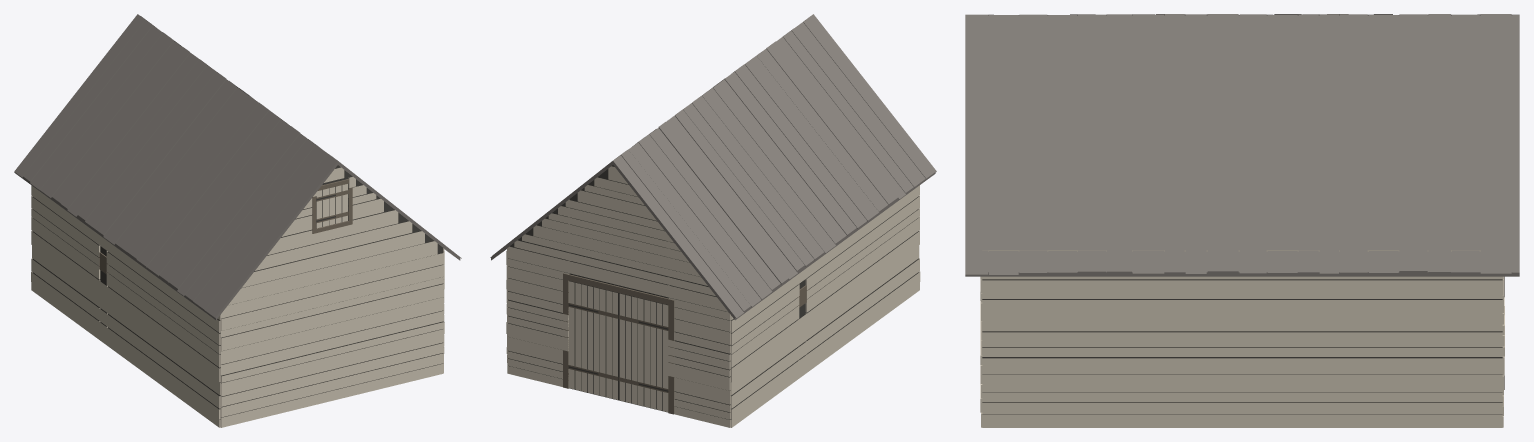
Rendered from recon_1835_blk_washington_clinton_a2_08__inferred_1835.glb.
3 views of the same model, side by side, from view 1: azimuth 30°, elevation 25°; view 2: azimuth 150°, elevation 25°; view 3: azimuth 270°, elevation 25° (orthographic). The views are drawn at different scales.
Parts seen in each view (by area): view 1: recon_1835_blk_washington_clinton_a2_08__inferred_1835; view 2: recon_1835_blk_washington_clinton_a2_08__inferred_1835; view 3: recon_1835_blk_washington_clinton_a2_08__inferred_1835.
Boxes of the visible parts, <box> form: recon_1835_blk_washington_clinton_a2_08__inferred_1835: <box>14,14,461,427</box>; recon_1835_blk_washington_clinton_a2_08__inferred_1835: <box>490,14,936,427</box>; recon_1835_blk_washington_clinton_a2_08__inferred_1835: <box>965,14,1519,427</box>.
Size of the model in its own units: 7.17 by 6.79 by 10.08.
